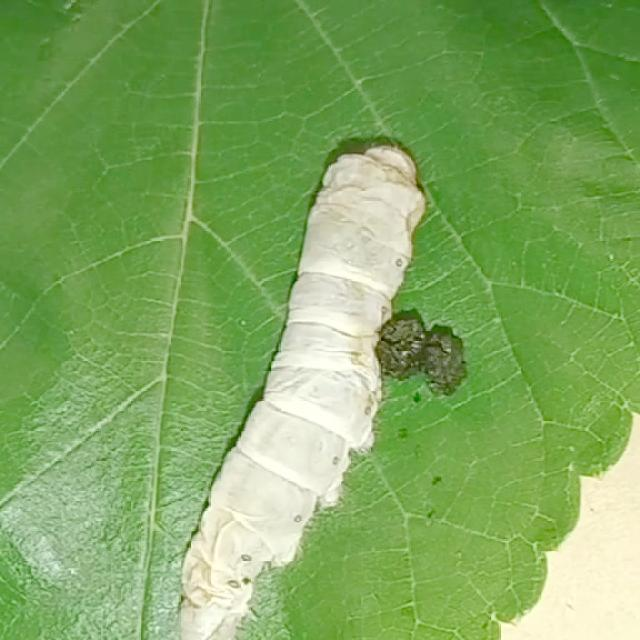Grasserie: (156, 117, 476, 632)
